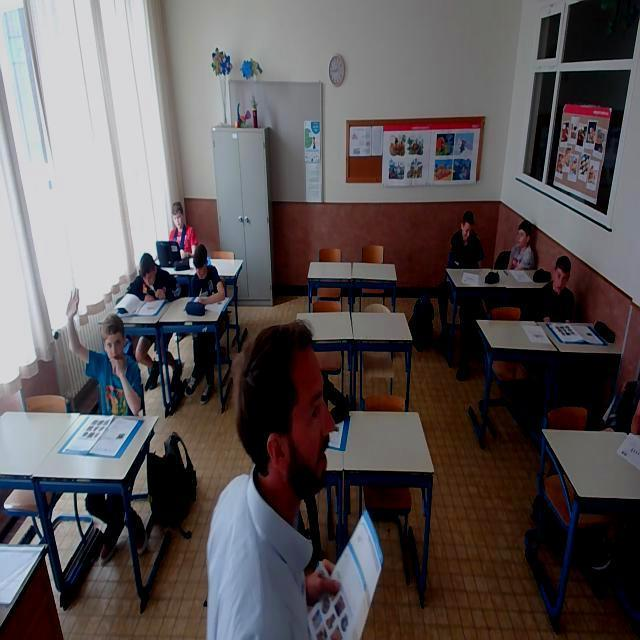Looking away: (163, 198, 194, 232), (187, 243, 213, 282), (457, 206, 478, 244), (516, 218, 534, 250)
Looking forward: (549, 253, 575, 294)
Raising hand: (66, 284, 134, 443)
Reading-writing: (131, 248, 182, 306)
